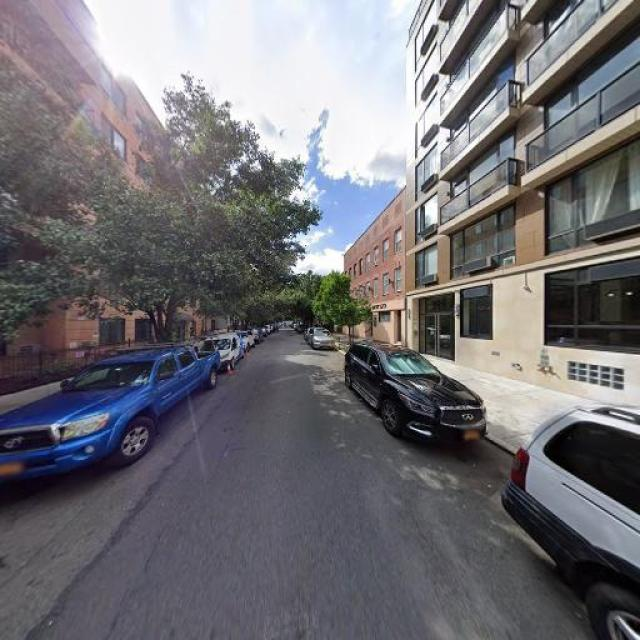Building: (407, 1, 640, 409), (1, 1, 217, 393), (347, 193, 404, 349)
